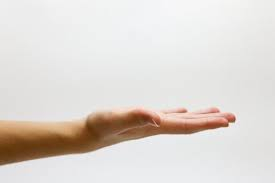hand: (60, 90, 246, 157)
